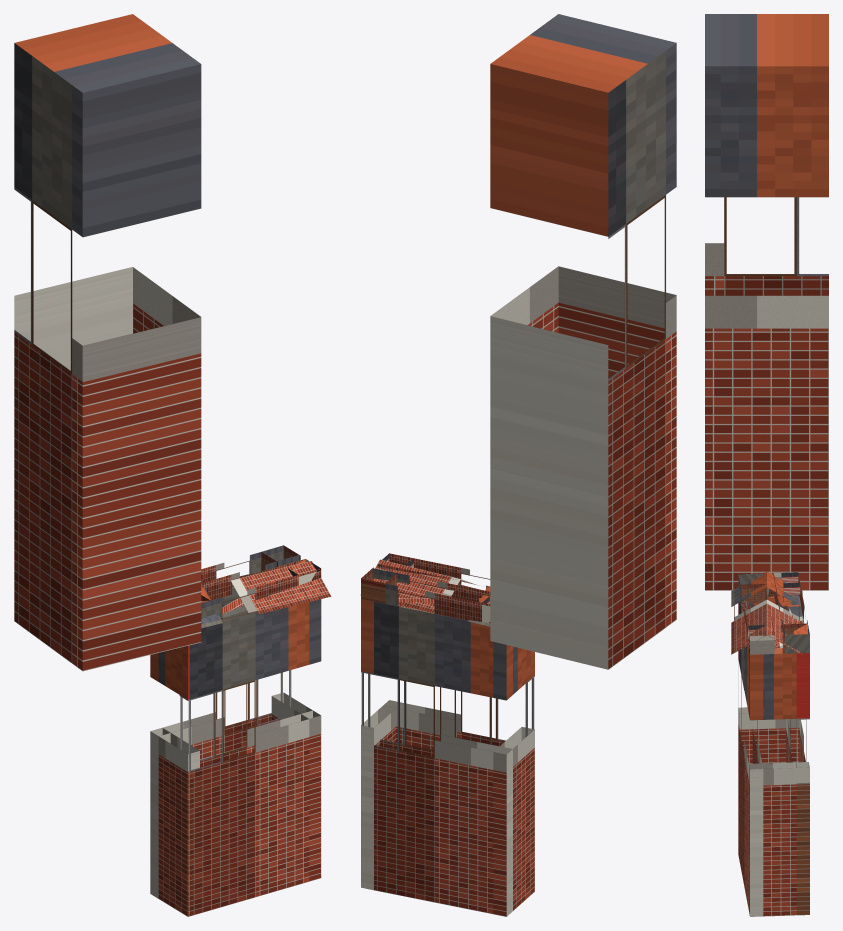
3 renders of one model, left to right at view 1: azimuth 30°, elevation 25°; view 2: azimuth 150°, elevation 25°; view 3: azimuth 270°, elevation 25°, orthographic. The views are drawn at different scales.
Visible parts, largest first — view 1: 1241125009__chimney_0_xb, 1241125009__wall_0_xb, 1241125009__wall_3_xb, 1241125009__wall_2_xb, 1241125009__wall_1_xb, 1241125009_roof_-1_xb, 1241125009__cornice_2, 1241125009__cornice_0; view 2: 1241125009__chimney_0_xb, 1241125009__wall_2_xb, 1241125009__wall_3_xb, 1241125009__wall_1_xb, 1241125009__wall_0_xb, 1241125009__cornice_2, 1241125009_roof_1_xb, 1241125009__cornice_0, 1241125009__cornice_1; view 3: 1241125009__chimney_0_xb, 1241125009__wall_1_xb, 1241125009__wall_0_xb, 1241125009__wall_2_xb, 1241125009__wall_3_xb, 1241125009_roof_-1_xb, 1241125009_roof_1_xb, 1241125009__cornice_2, 1241125009__cornice_0, 1241125009__cornice_3, 1241125009__cornice_1.
Boxes of the visible parts, x1=… form: 1241125009__chimney_0_xb: x1=14, y1=14, x2=201, y2=671; 1241125009__wall_0_xb: x1=179, y1=601, x2=321, y2=916; 1241125009__wall_3_xb: x1=158, y1=646, x2=199, y2=916; 1241125009__wall_2_xb: x1=150, y1=586, x2=291, y2=898; 1241125009__wall_1_xb: x1=271, y1=599, x2=321, y2=881; 1241125009_roof_-1_xb: x1=201, y1=561, x2=331, y2=628; 1241125009__cornice_2: x1=201, y1=545, x2=299, y2=600; 1241125009__cornice_0: x1=201, y1=559, x2=321, y2=618; 1241125009__chimney_0_xb: x1=490, y1=14, x2=676, y2=669; 1241125009__wall_2_xb: x1=361, y1=602, x2=512, y2=916; 1241125009__wall_3_xb: x1=493, y1=642, x2=534, y2=916; 1241125009__wall_1_xb: x1=361, y1=599, x2=402, y2=890; 1241125009__wall_0_xb: x1=383, y1=675, x2=534, y2=749; 1241125009__cornice_2: x1=372, y1=568, x2=490, y2=622; 1241125009_roof_1_xb: x1=360, y1=559, x2=490, y2=626; 1241125009__cornice_0: x1=377, y1=553, x2=490, y2=589; 1241125009__cornice_1: x1=361, y1=553, x2=413, y2=603; 1241125009__chimney_0_xb: x1=705, y1=14, x2=828, y2=590; 1241125009__wall_1_xb: x1=749, y1=648, x2=809, y2=916; 1241125009__wall_0_xb: x1=738, y1=602, x2=763, y2=916; 1241125009__wall_2_xb: x1=786, y1=604, x2=809, y2=915; 1241125009__wall_3_xb: x1=738, y1=596, x2=799, y2=763; 1241125009_roof_-1_xb: x1=731, y1=572, x2=766, y2=654; 1241125009_roof_1_xb: x1=767, y1=572, x2=802, y2=654; 1241125009__cornice_2: x1=773, y1=573, x2=809, y2=653; 1241125009__cornice_0: x1=738, y1=573, x2=774, y2=654; 1241125009__cornice_3: x1=740, y1=572, x2=800, y2=603; 1241125009__cornice_1: x1=748, y1=623, x2=807, y2=653.
Size of the model in its own units: 0.3334 by 1.05 by 0.15.
Materials: 1 (1 with a texture image).
